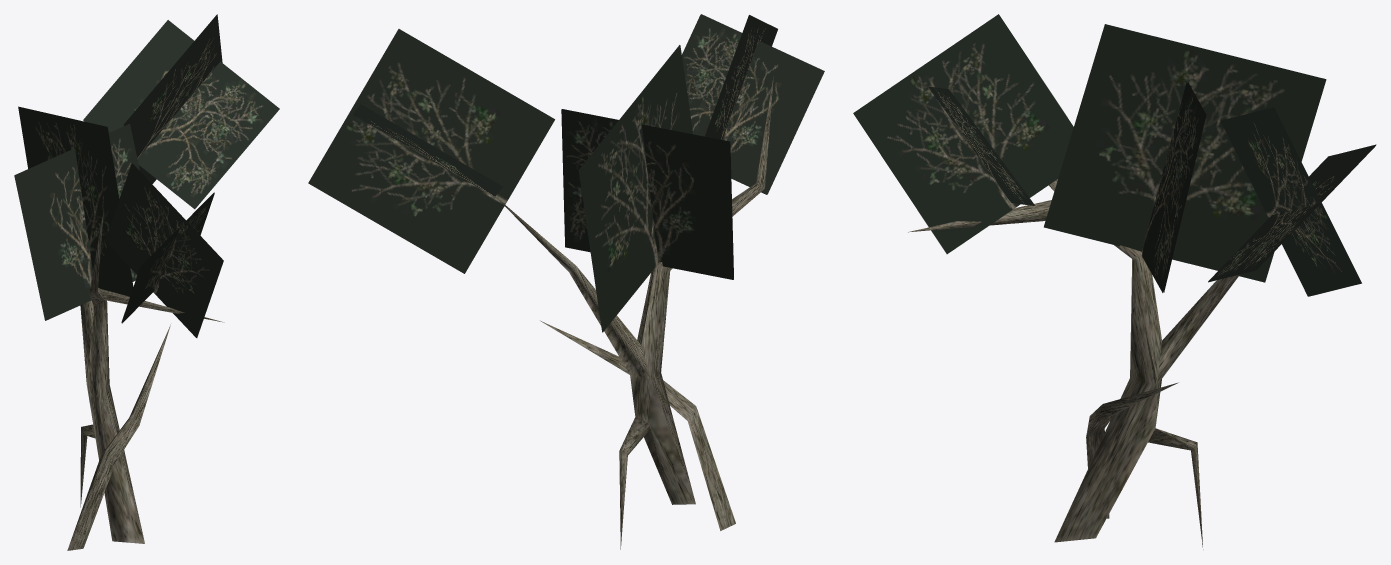
File: mtns_shrb_gnarled_a2_l3.fbx
3 renders of one model, left to right at view 1: azimuth 30°, elevation 25°; view 2: azimuth 150°, elevation 25°; view 3: azimuth 270°, elevation 25°, orthographic. The views are drawn at different scales.
Visible parts, largest first — view 1: mesh_node; view 2: mesh_node; view 3: mesh_node.
Part boxes in pixels (x1,y1,x2,y2): mesh_node: (14, 14, 279, 550); mesh_node: (308, 14, 824, 549); mesh_node: (853, 14, 1376, 549).
Bounding box in the file's own units: 5.83 × 8.06 × 7.02.
Materials: 2 (2 with a texture image).
